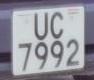2: (64, 36, 82, 71)
7: (17, 38, 34, 76)
9: (32, 39, 52, 73), (48, 37, 67, 72)
C: (50, 10, 66, 43)
U: (32, 11, 50, 44)
